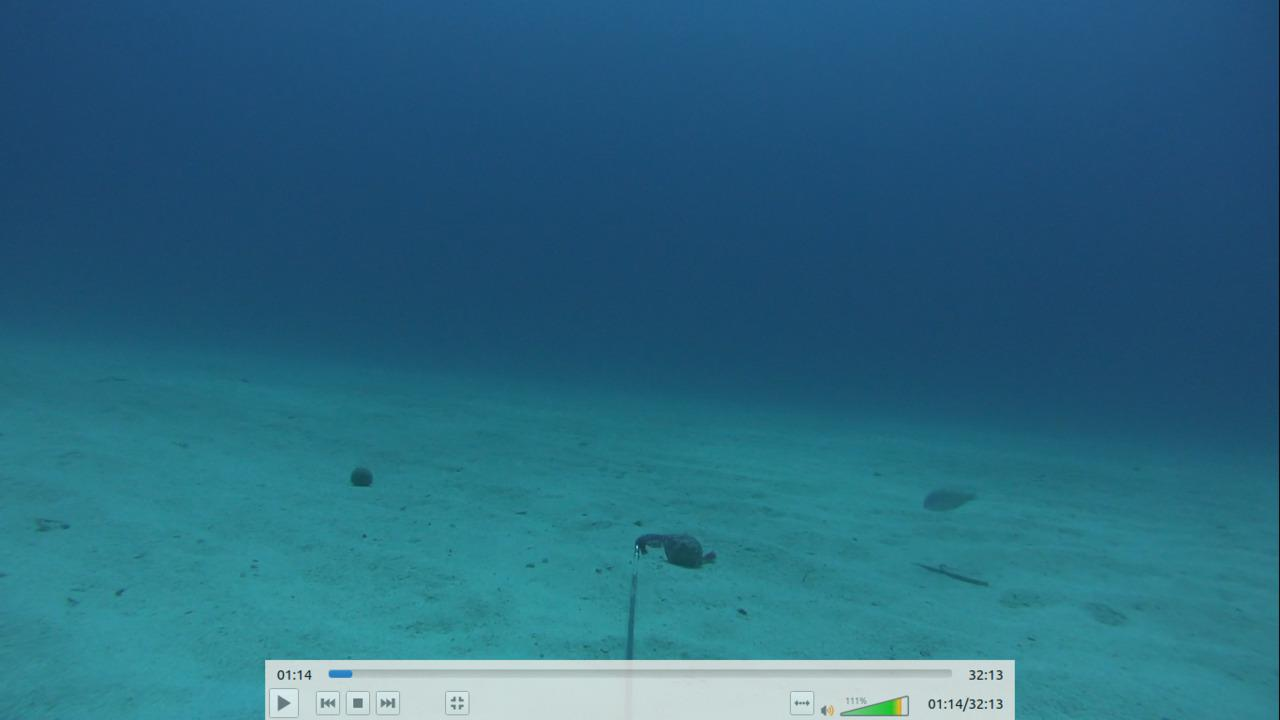raor: (912, 479, 984, 515)
